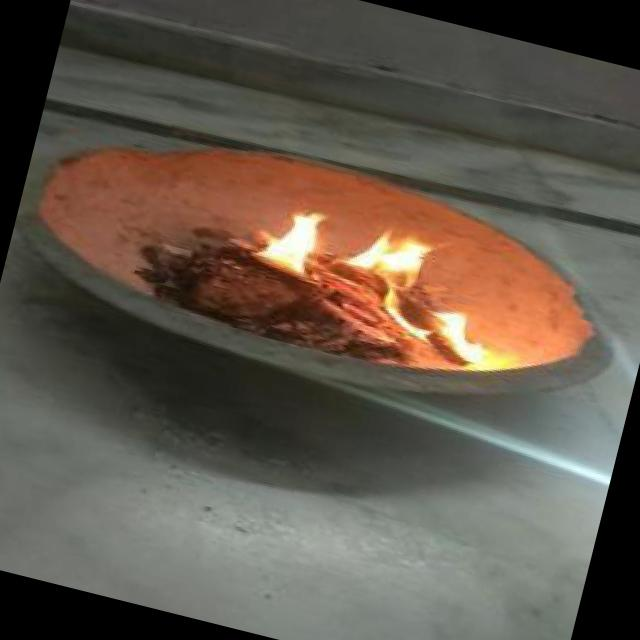Fire: (245, 188, 535, 380)
